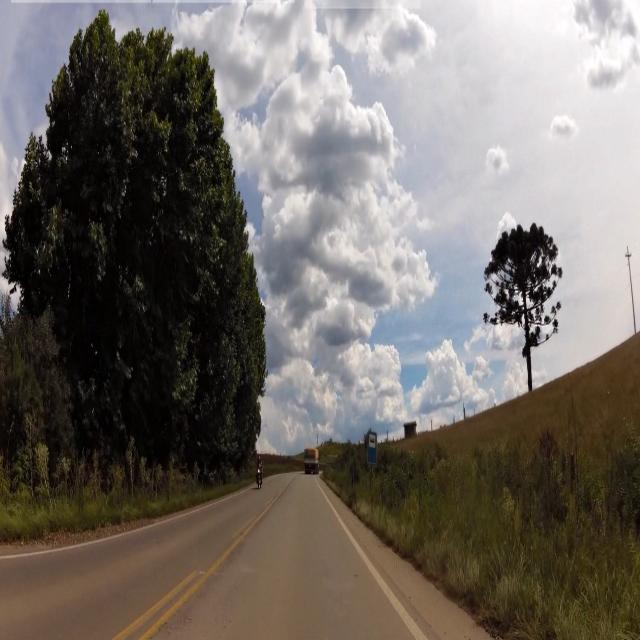S-14: (368, 432, 377, 464)
